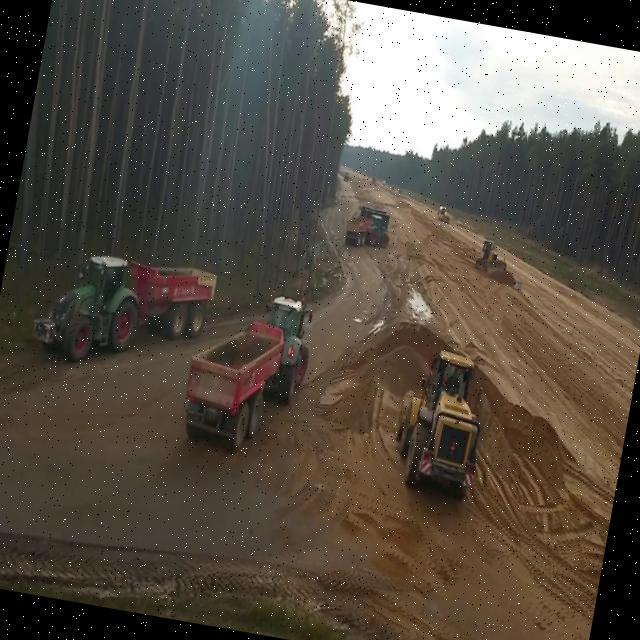Dump Truck: (25, 235, 218, 385), (174, 272, 320, 462), (341, 201, 394, 254)
Loader: (382, 334, 498, 505)
